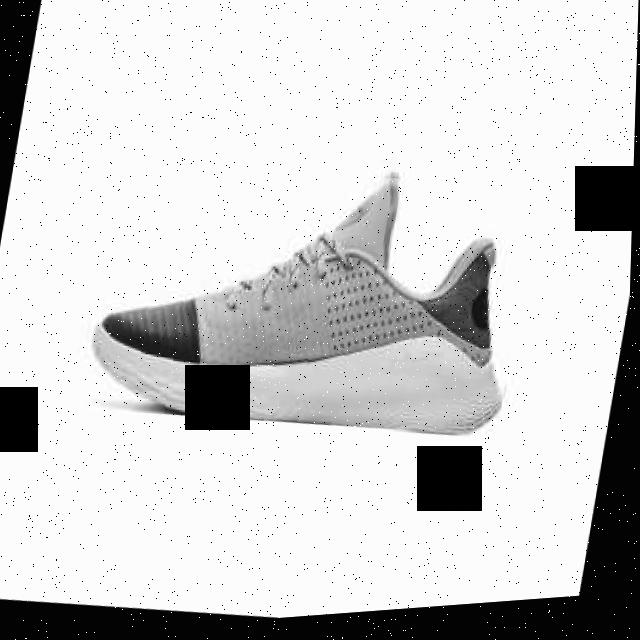shoe: (81, 130, 543, 469)
